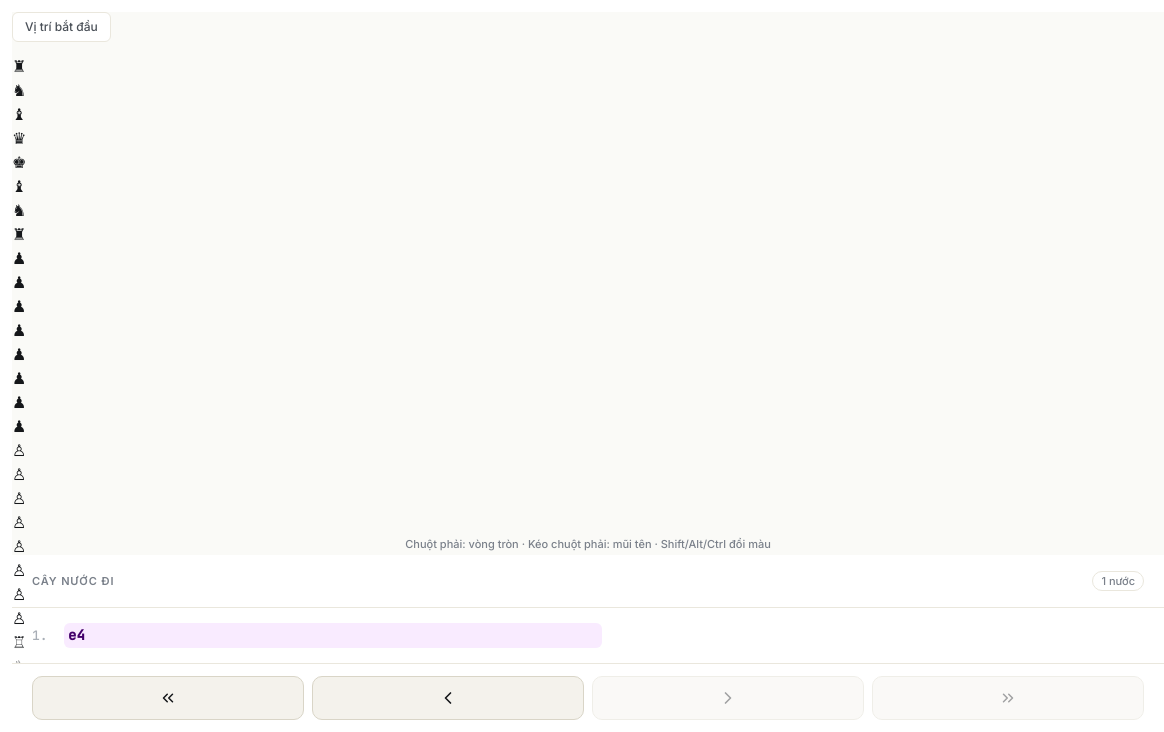
Scenario: BoardAuthoringSurface › variation list delete button — Slice 5b (#200) › hovering a variation node reveals the delete button
This screenshot has width=1164, height=732.
Hover over the button with test id "variation-node-" at [76, 635], box 64,623 -> 602,648
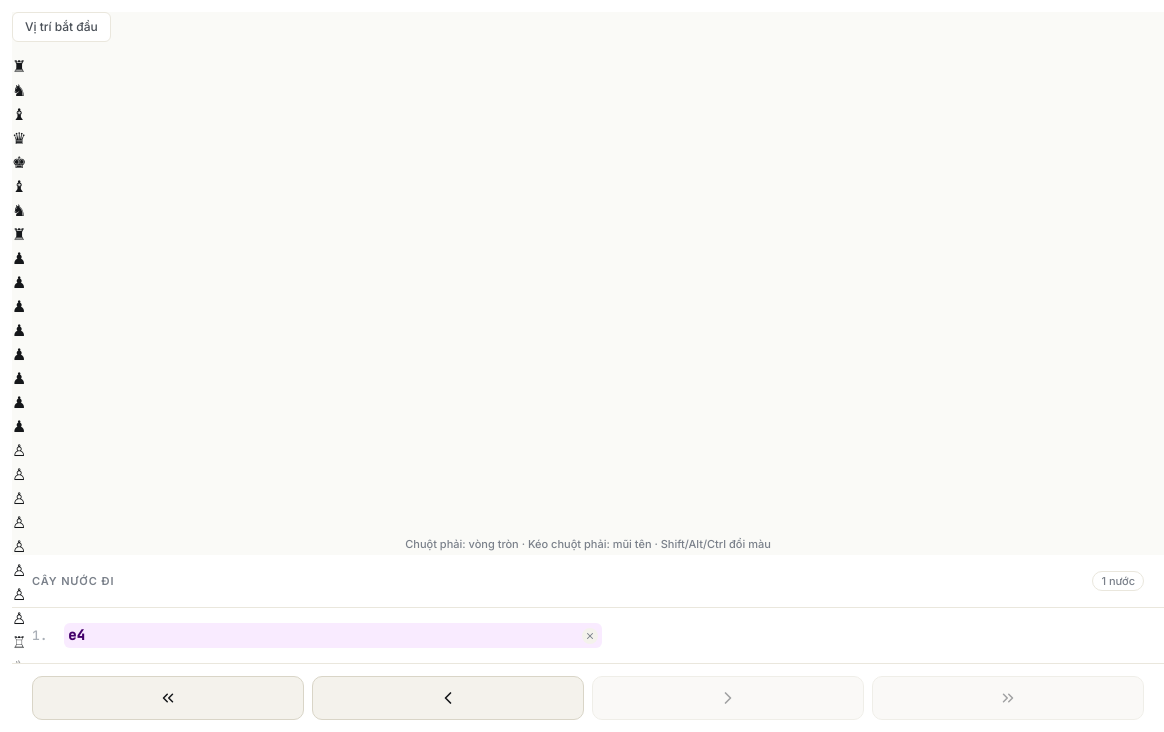
expect the button with test id "delete-move-btn-" is shown: met, box 582,628 -> 598,644
